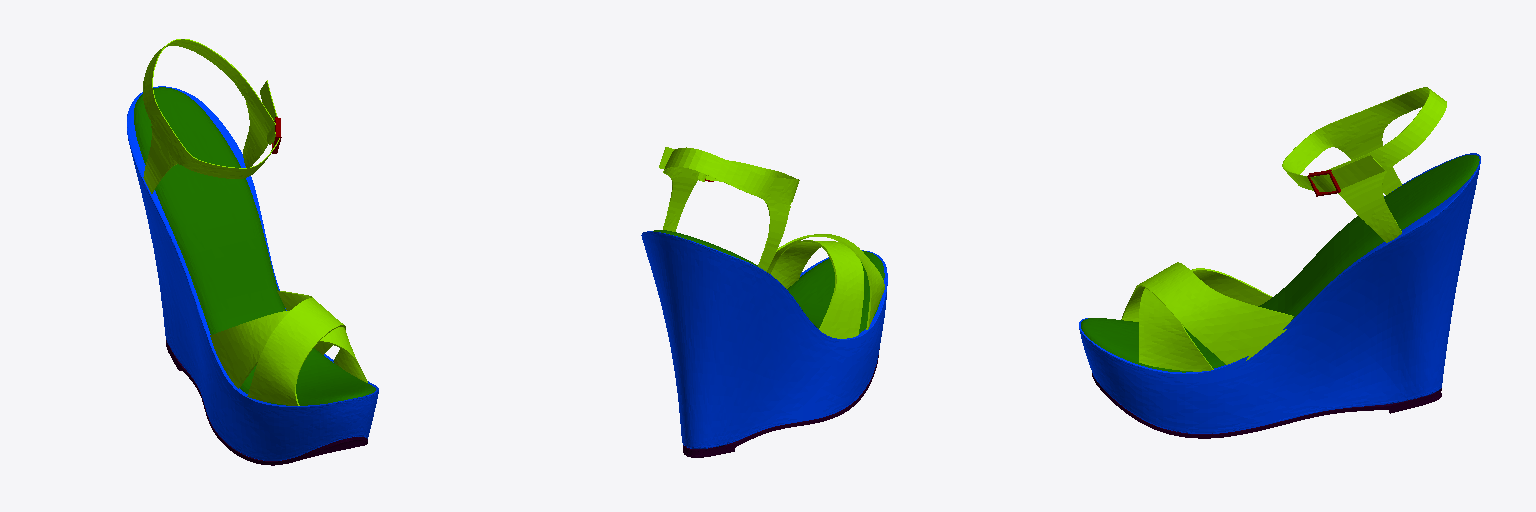
The model's file is calis_2.obj.
3 renders of one model, left to right at view 1: azimuth 30°, elevation 25°; view 2: azimuth 150°, elevation 25°; view 3: azimuth 270°, elevation 25°, orthographic.
Parts seen in each view (by area): view 1: Object001, Box001, Box002, Plane004, Plane003, Object002; view 2: Box001, Box002, Plane003, Object001, Plane004, Object002; view 3: Box001, Box002, Object001, Plane004, Plane003, Object002.
Boxes of the visible parts, x1=… form: Object001: x1=134, y1=87, x2=375, y2=405; Box001: x1=127, y1=86, x2=378, y2=460; Box002: x1=143, y1=39, x2=279, y2=193; Plane004: x1=247, y1=291, x2=345, y2=405; Plane003: x1=210, y1=310, x2=367, y2=388; Object002: x1=166, y1=340, x2=367, y2=465; Box001: x1=641, y1=231, x2=887, y2=448; Box002: x1=659, y1=147, x2=799, y2=271; Plane003: x1=771, y1=240, x2=863, y2=338; Object001: x1=653, y1=230, x2=884, y2=333; Plane004: x1=767, y1=234, x2=884, y2=329; Object002: x1=683, y1=349, x2=879, y2=457; Box001: x1=1079, y1=153, x2=1480, y2=433; Box002: x1=1282, y1=87, x2=1446, y2=242; Object001: x1=1081, y1=155, x2=1479, y2=372; Plane004: x1=1121, y1=262, x2=1293, y2=364; Plane003: x1=1139, y1=268, x2=1271, y2=371; Object002: x1=1092, y1=373, x2=1441, y2=438.
Bounding box in the file's own units: 7.15 × 19.53 × 21.88.